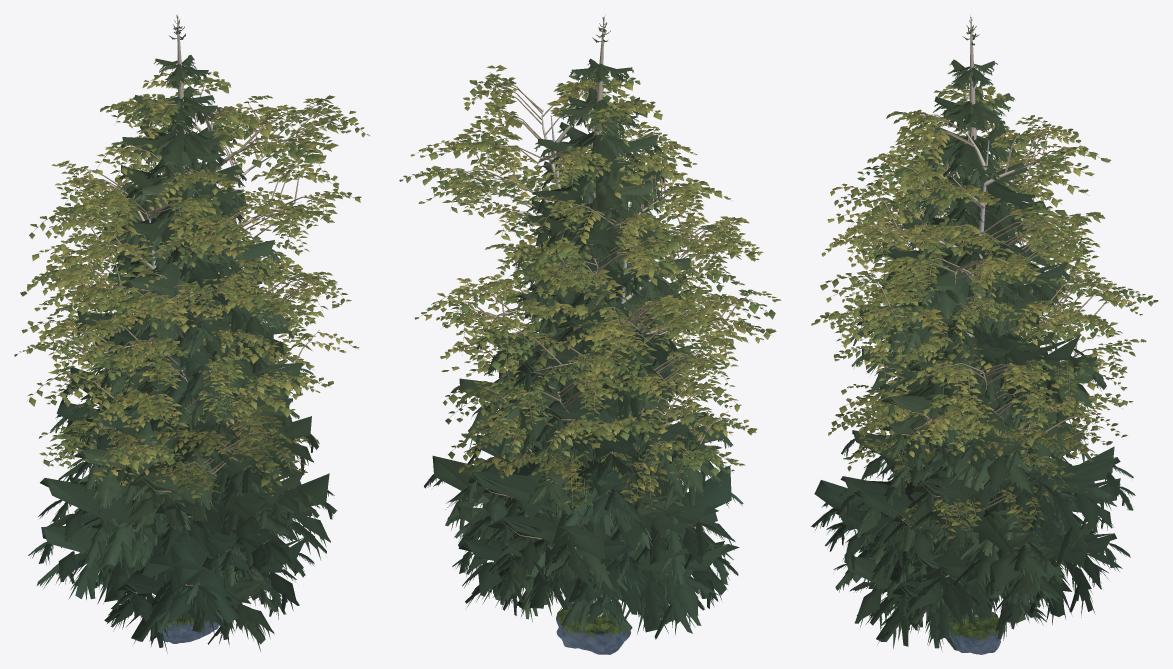
Rendered from woods.glb.
The picture shows the model from 3 angles, left to right: view 1: azimuth 30°, elevation 25°; view 2: azimuth 150°, elevation 25°; view 3: azimuth 270°, elevation 25°; orthographic projection.
Visible parts, largest first — view 1: Fir1_Needles, Fir1Far_Needles, Fir1Low_Needles, Birch1_Leaves, Birch0_Leaves, Birch1Low_Leaves, Birch0Low_Leaves, Fir0_Needles, Fir0Far_Needles, Fir0Low_Needles, Birch1_Trunk, Birch1Far_Leaves (+6 smaller); view 2: Fir1_Needles, Fir1Far_Needles, Fir1Low_Needles, Birch1_Leaves, Birch0_Leaves, Birch1Low_Leaves, Birch0Low_Leaves, Fir0_Needles, Birch1_Trunk, Fir0Far_Needles, Birch0_Trunk, Fir0Low_Needles (+7 smaller); view 3: Fir1_Needles, Fir1Far_Needles, Birch1_Leaves, Fir1Low_Needles, Birch1Low_Leaves, Birch0_Leaves, Fir0_Needles, Birch0Low_Leaves, Fir0Far_Needles, Fir0Low_Needles, Birch1_Trunk, Birch1Far_Leaves (+7 smaller).
Boxes of the visible parts, x1,y1,x2,y2 form: Fir1_Needles: [28, 15, 336, 646]; Fir1Far_Needles: [42, 15, 330, 622]; Fir1Low_Needles: [28, 26, 336, 640]; Birch1_Leaves: [34, 71, 370, 496]; Birch0_Leaves: [14, 145, 320, 497]; Birch1Low_Leaves: [20, 71, 361, 472]; Birch0Low_Leaves: [21, 144, 324, 494]; Fir0_Needles: [79, 124, 319, 652]; Fir0Far_Needles: [79, 125, 311, 633]; Fir0Low_Needles: [82, 133, 320, 644]; Birch1_Trunk: [40, 73, 362, 489]; Birch1Far_Leaves: [46, 93, 357, 492]; Fir1_Needles: [424, 18, 742, 639]; Fir1Far_Needles: [433, 18, 734, 624]; Fir1Low_Needles: [424, 28, 743, 634]; Birch1_Leaves: [399, 74, 763, 472]; Birch0_Leaves: [440, 144, 781, 509]; Birch1Low_Leaves: [410, 75, 744, 478]; Birch0Low_Leaves: [447, 163, 776, 511]; Fir0_Needles: [461, 130, 728, 632]; Birch1_Trunk: [403, 77, 757, 469]; Fir0Far_Needles: [470, 130, 723, 622]; Birch0_Trunk: [450, 147, 777, 506]; Fir0Low_Needles: [466, 178, 730, 634]; Fir1_Needles: [812, 16, 1133, 632]; Fir1Far_Needles: [821, 17, 1122, 624]; Birch1_Leaves: [811, 86, 1151, 535]; Fir1Low_Needles: [811, 27, 1135, 627]; Birch1Low_Leaves: [820, 84, 1146, 532]; Birch0_Leaves: [821, 135, 1158, 528]; Fir0_Needles: [833, 132, 1104, 650]; Birch0Low_Leaves: [827, 138, 1133, 527]; Fir0Far_Needles: [850, 134, 1098, 631]; Fir0Low_Needles: [834, 143, 1103, 648]; Birch1_Trunk: [820, 88, 1151, 536]; Birch1Far_Leaves: [820, 89, 1106, 539].
Bounding box in the file's own units: 12.1 × 21.94 × 10.99.
